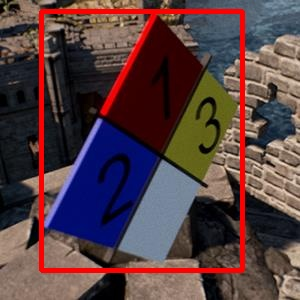nfpa: (41, 11, 242, 270)
